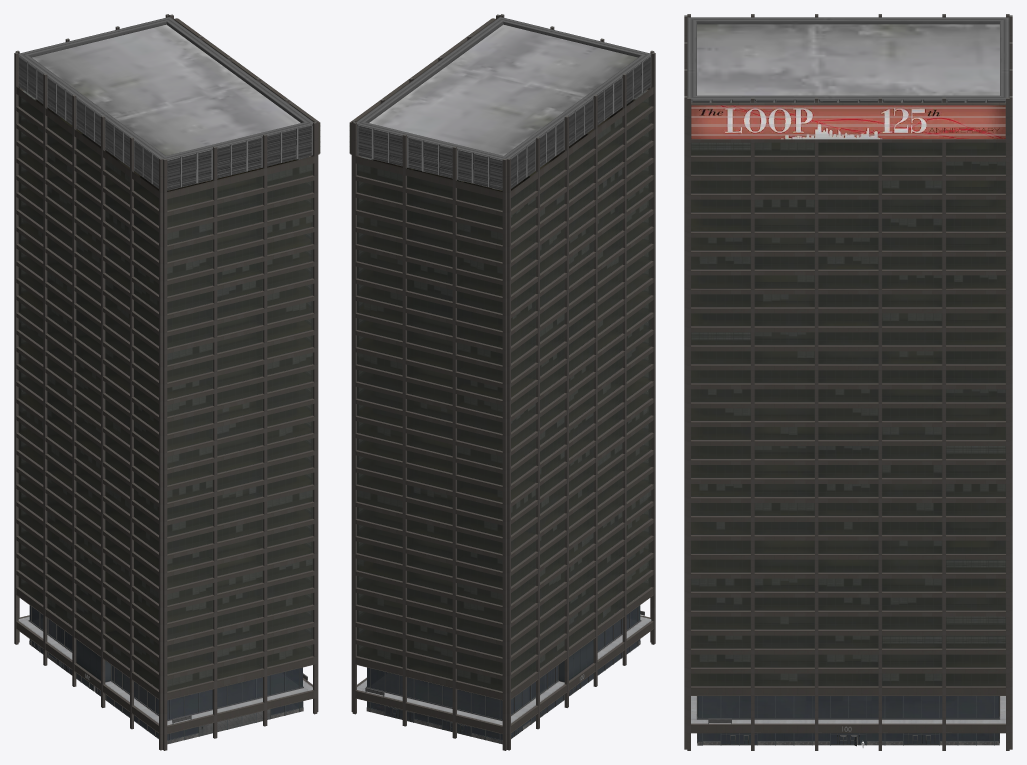
File: b_atlanta.glb
3 renders of one model, left to right at view 1: azimuth 30°, elevation 25°; view 2: azimuth 150°, elevation 25°; view 3: azimuth 270°, elevation 25°, orthographic. The views are drawn at different scales.
Visible parts, largest first — view 1: Cube.002_Material_0, Cube.005_Glass_0, Cube.012_Parralax Mapping_0, Cube.001_Windows_0, Cube.006_Emmisive_0, Cube.007_Glass Lobby_0, Cube.003_Blinds_0; view 2: Cube.002_Material_0, Cube.005_Glass_0, Cube.012_Parralax Mapping_0, Cube.001_Windows_0, Cube.006_Emmisive_0, Cube.007_Glass Lobby_0, Cube.003_Blinds_0; view 3: Cube.005_Glass_0, Cube.002_Material_0, Cube.012_Parralax Mapping_0, Cube.001_Windows_0, Cube.004_Billboard_0, Cube.007_Glass Lobby_0, Cube.003_Blinds_0, Cube.006_Emmisive_0.
Boxes of the visible parts, left/top/right/bottom form: Cube.002_Material_0: left=14, top=14, right=320, bottom=750; Cube.005_Glass_0: left=18, top=90, right=312, bottom=690; Cube.012_Parralax Mapping_0: left=19, top=96, right=311, bottom=690; Cube.001_Windows_0: left=18, top=90, right=312, bottom=691; Cube.006_Emmisive_0: left=18, top=56, right=312, bottom=190; Cube.007_Glass Lobby_0: left=29, top=605, right=303, bottom=740; Cube.003_Blinds_0: left=19, top=114, right=311, bottom=685; Cube.002_Material_0: left=349, top=14, right=655, bottom=750; Cube.005_Glass_0: left=357, top=90, right=651, bottom=690; Cube.012_Parralax Mapping_0: left=358, top=96, right=650, bottom=690; Cube.001_Windows_0: left=357, top=90, right=651, bottom=691; Cube.006_Emmisive_0: left=357, top=56, right=651, bottom=190; Cube.007_Glass Lobby_0: left=367, top=605, right=640, bottom=740; Cube.003_Blinds_0: left=358, top=118, right=650, bottom=682; Cube.005_Glass_0: left=691, top=142, right=1005, bottom=685; Cube.002_Material_0: left=684, top=14, right=1012, bottom=750; Cube.012_Parralax Mapping_0: left=691, top=143, right=1005, bottom=685; Cube.001_Windows_0: left=691, top=143, right=1005, bottom=686; Cube.004_Billboard_0: left=691, top=105, right=1005, bottom=139; Cube.007_Glass Lobby_0: left=697, top=696, right=999, bottom=744; Cube.003_Blinds_0: left=692, top=143, right=1004, bottom=680; Cube.006_Emmisive_0: left=691, top=99, right=1005, bottom=102.
Size of the model in its own units: 60.83 by 212 by 96.85.
12 materials, 11 textured.
